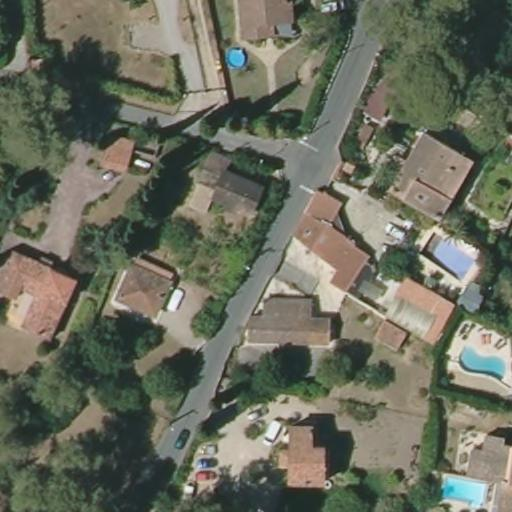pool: (418, 226, 482, 288), (432, 469, 494, 506), (454, 340, 507, 383), (222, 41, 251, 73)
